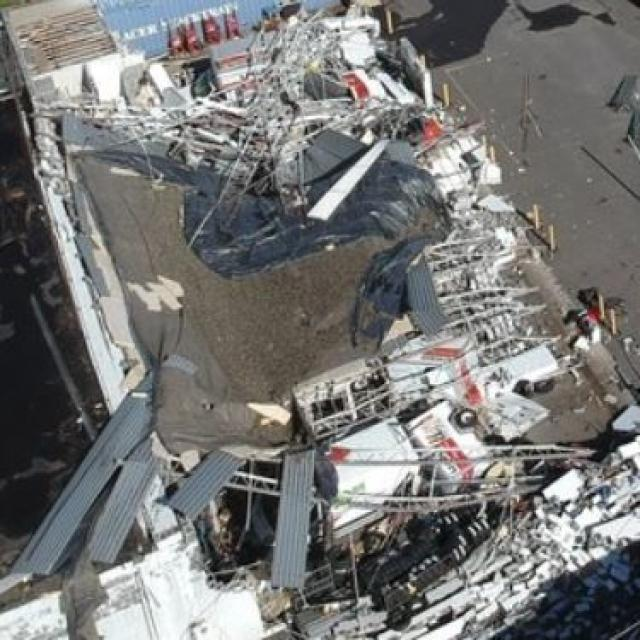collapsed_building: (65, 0, 560, 546)
